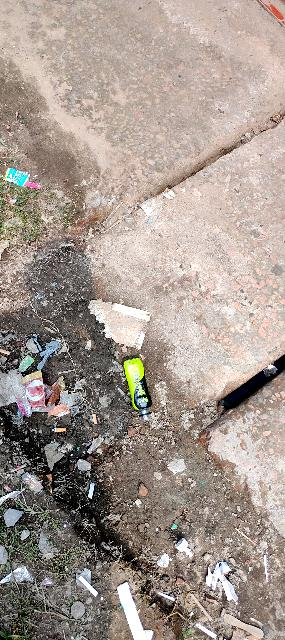bottle: (111, 345, 164, 438)
